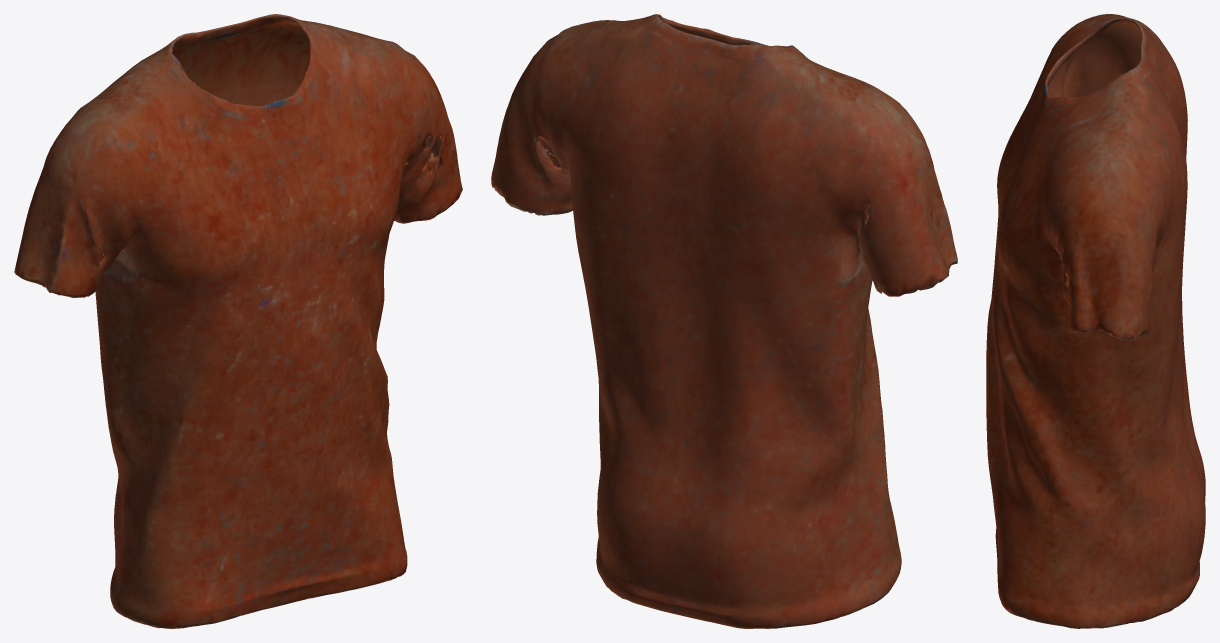
File: image_to_3d_model.glb
3 views of the same model, side by side, from view 1: azimuth 30°, elevation 25°; view 2: azimuth 150°, elevation 25°; view 3: azimuth 270°, elevation 25° (orthographic). The views are drawn at different scales.
Visible parts, largest first — view 1: file1; view 2: file1; view 3: file1.
Part boxes in pixels (x1=…): file1: x1=14, y1=14, x2=462, y2=628; file1: x1=491, y1=14, x2=957, y2=628; file1: x1=986, y1=14, x2=1205, y2=628.
Size of the model in its own units: 1.69 by 2 by 0.7554.
Materials: 1 (1 with a texture image).
